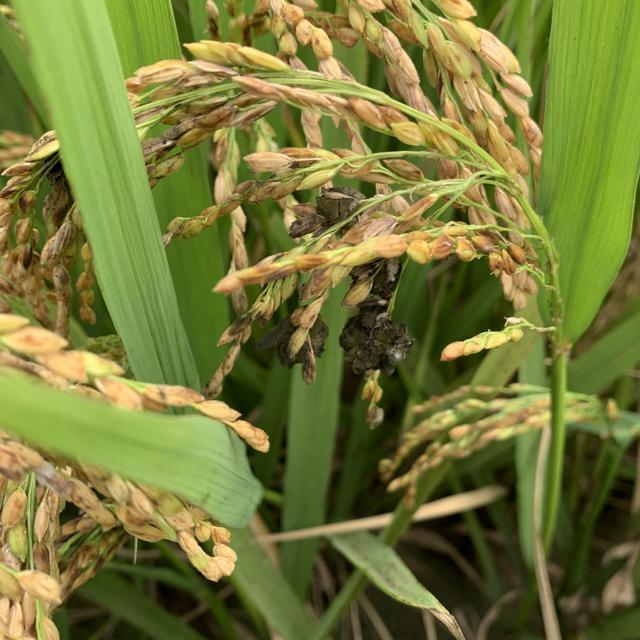Leaf_Scald: (343, 254, 415, 377), (271, 309, 334, 367), (311, 184, 368, 229)
